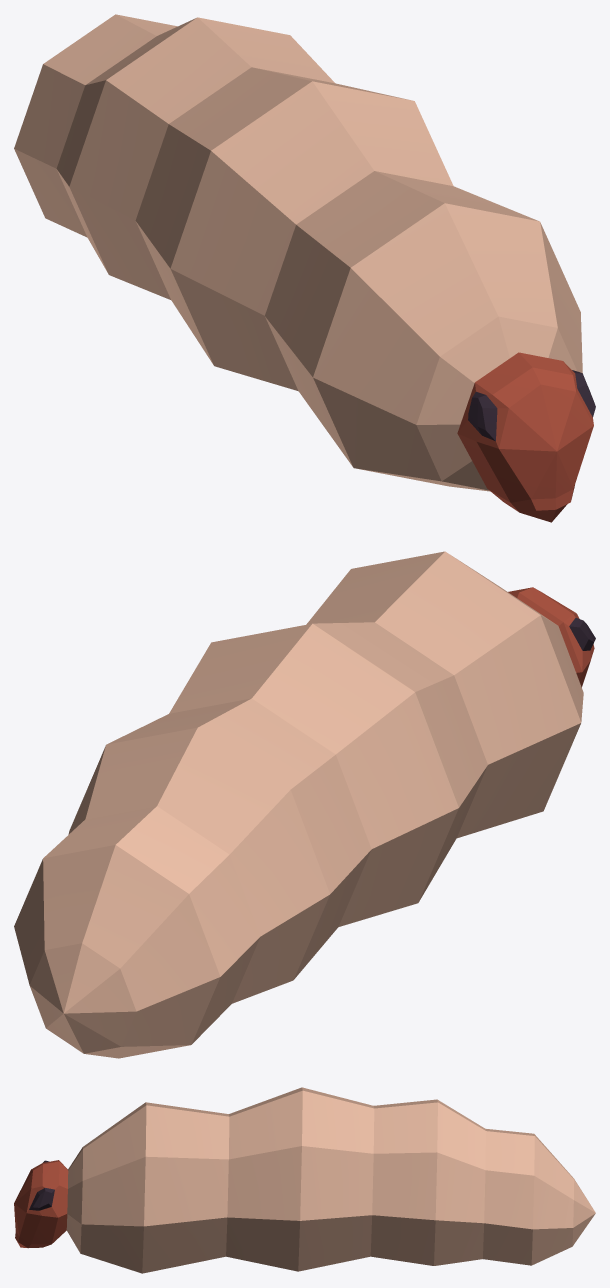
File: Larva.fbx
3 views of the same model, one above another, from view 1: azimuth 30°, elevation 25°; view 2: azimuth 150°, elevation 25°; view 3: azimuth 270°, elevation 25° (orthographic). The views are drawn at different scales.
Parts seen in each view (by area): view 1: Larva; view 2: Larva; view 3: Larva.
Boxes of the visible parts, left/top/right/bottom form: Larva: left=14, top=14, right=595, bottom=522; Larva: left=14, top=551, right=595, bottom=1058; Larva: left=14, top=1087, right=595, bottom=1273.
Bounding box in the file's own units: 5.05 × 5.11 × 14.97.
